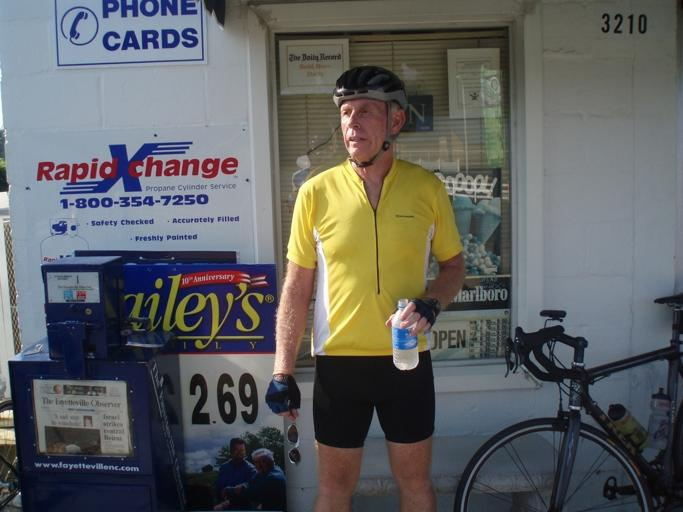non-vehicle: (453, 292, 683, 512), (0, 397, 23, 511)
